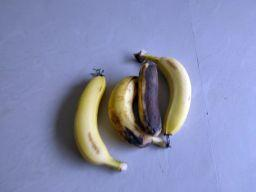banana: (72, 67, 128, 173), (132, 49, 193, 145), (106, 73, 173, 150), (136, 58, 163, 139)
